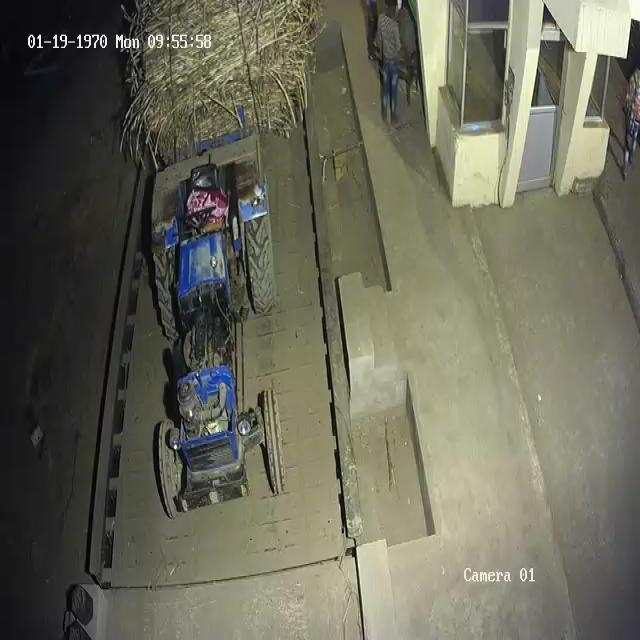Tratores - v5 YOLO V8L 2024-11-13: (150, 160, 292, 519)
